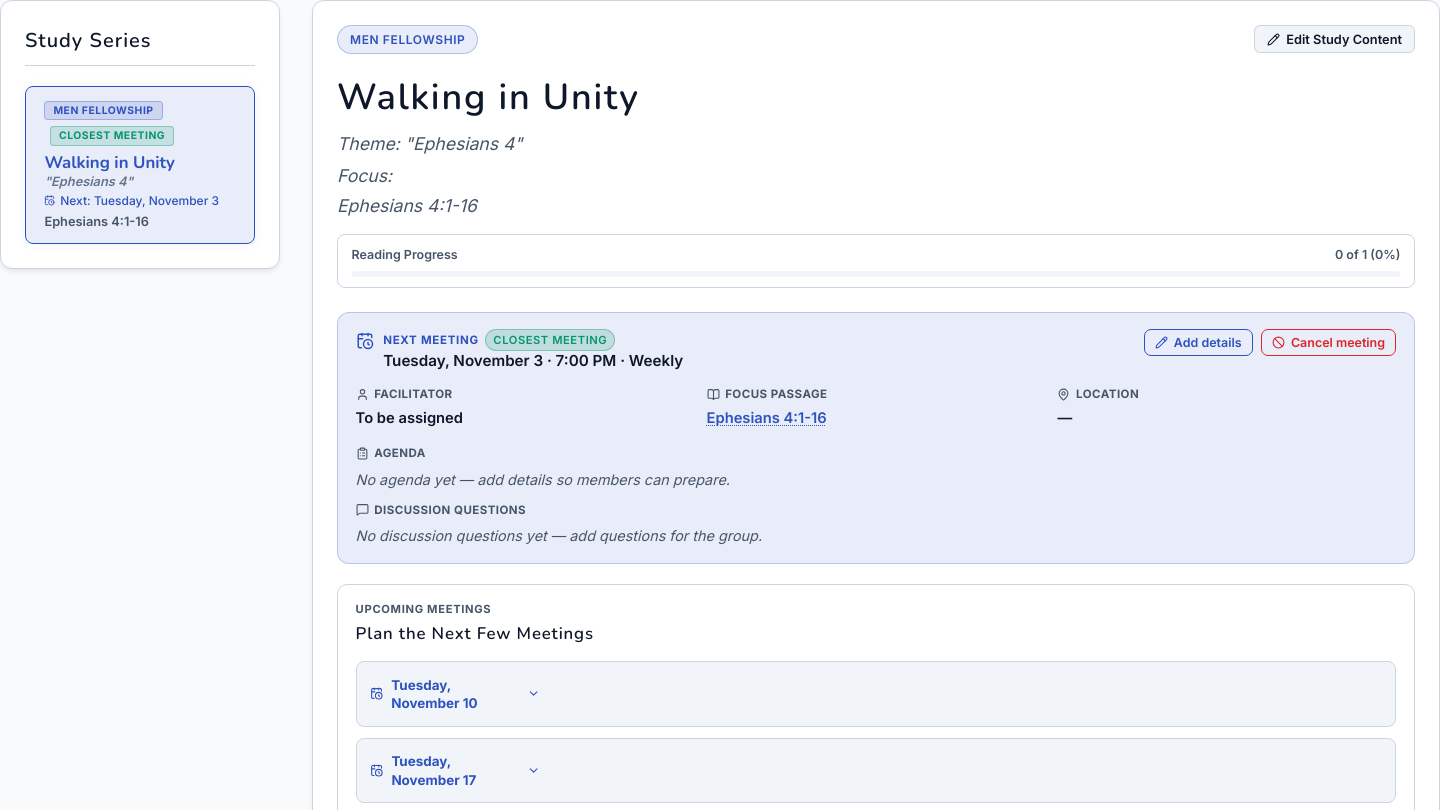
it: Studies component › editing Scripture Readings, Lesson Summary & Discussion Guide › renders Edit Study Content button for Leaders and opens modal on click
Check: the heading "Walking in Unity" is shown, box [337,69,640,126]
Click the button "Edit Study Content": point(1334, 39) [1254,25,1415,53]
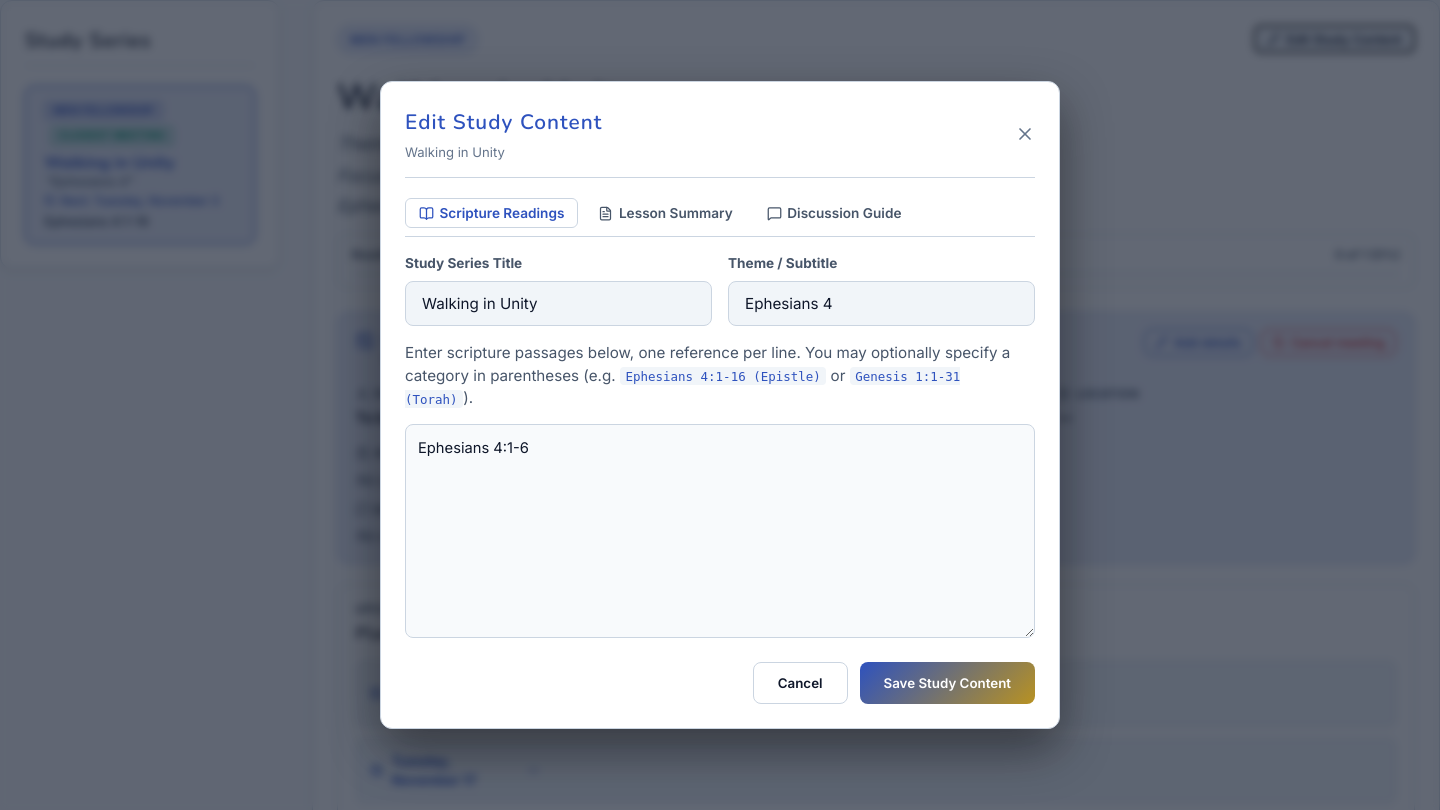
Check: the dialog is shown, box [380,81,1060,729]
Check: the heading "Edit Study Content" is shown, box [405,106,602,139]
Check: the button "Scripture Readings" is shown, box [405,198,578,228]
